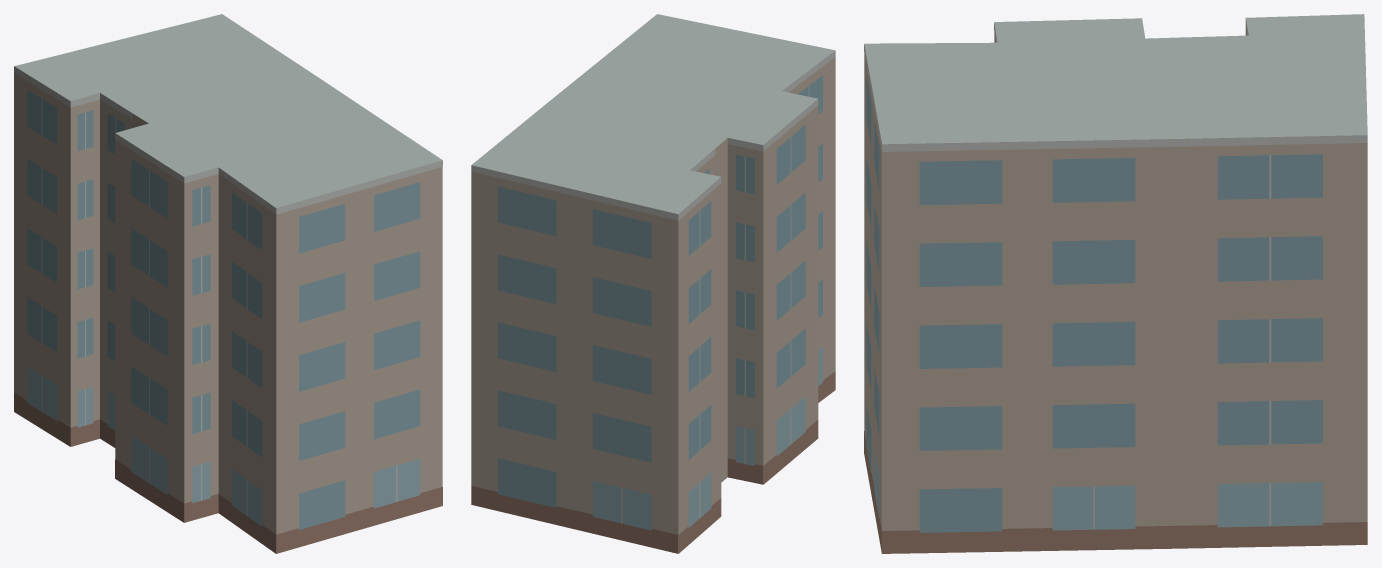
Rendered from survey-upis-32724616.glb.
The picture shows the model from 3 angles, left to right: view 1: azimuth 30°, elevation 25°; view 2: azimuth 150°, elevation 25°; view 3: azimuth 270°, elevation 25°; orthographic projection. The views are drawn at different scales.
Visible parts, largest first — view 1: survey-upis-32724616.tmp; view 2: survey-upis-32724616.tmp; view 3: survey-upis-32724616.tmp.
Boxes of the visible parts, bbox=[...] form: survey-upis-32724616.tmp: bbox=[14, 14, 442, 553]; survey-upis-32724616.tmp: bbox=[471, 14, 835, 553]; survey-upis-32724616.tmp: bbox=[864, 14, 1367, 553].
Size of the model in its own units: 8.8 by 12.9 by 14.38.
